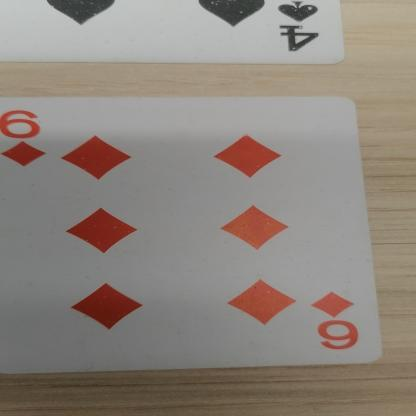4S: (284, 1, 332, 58)
6D: (299, 286, 376, 358), (0, 96, 62, 172)
